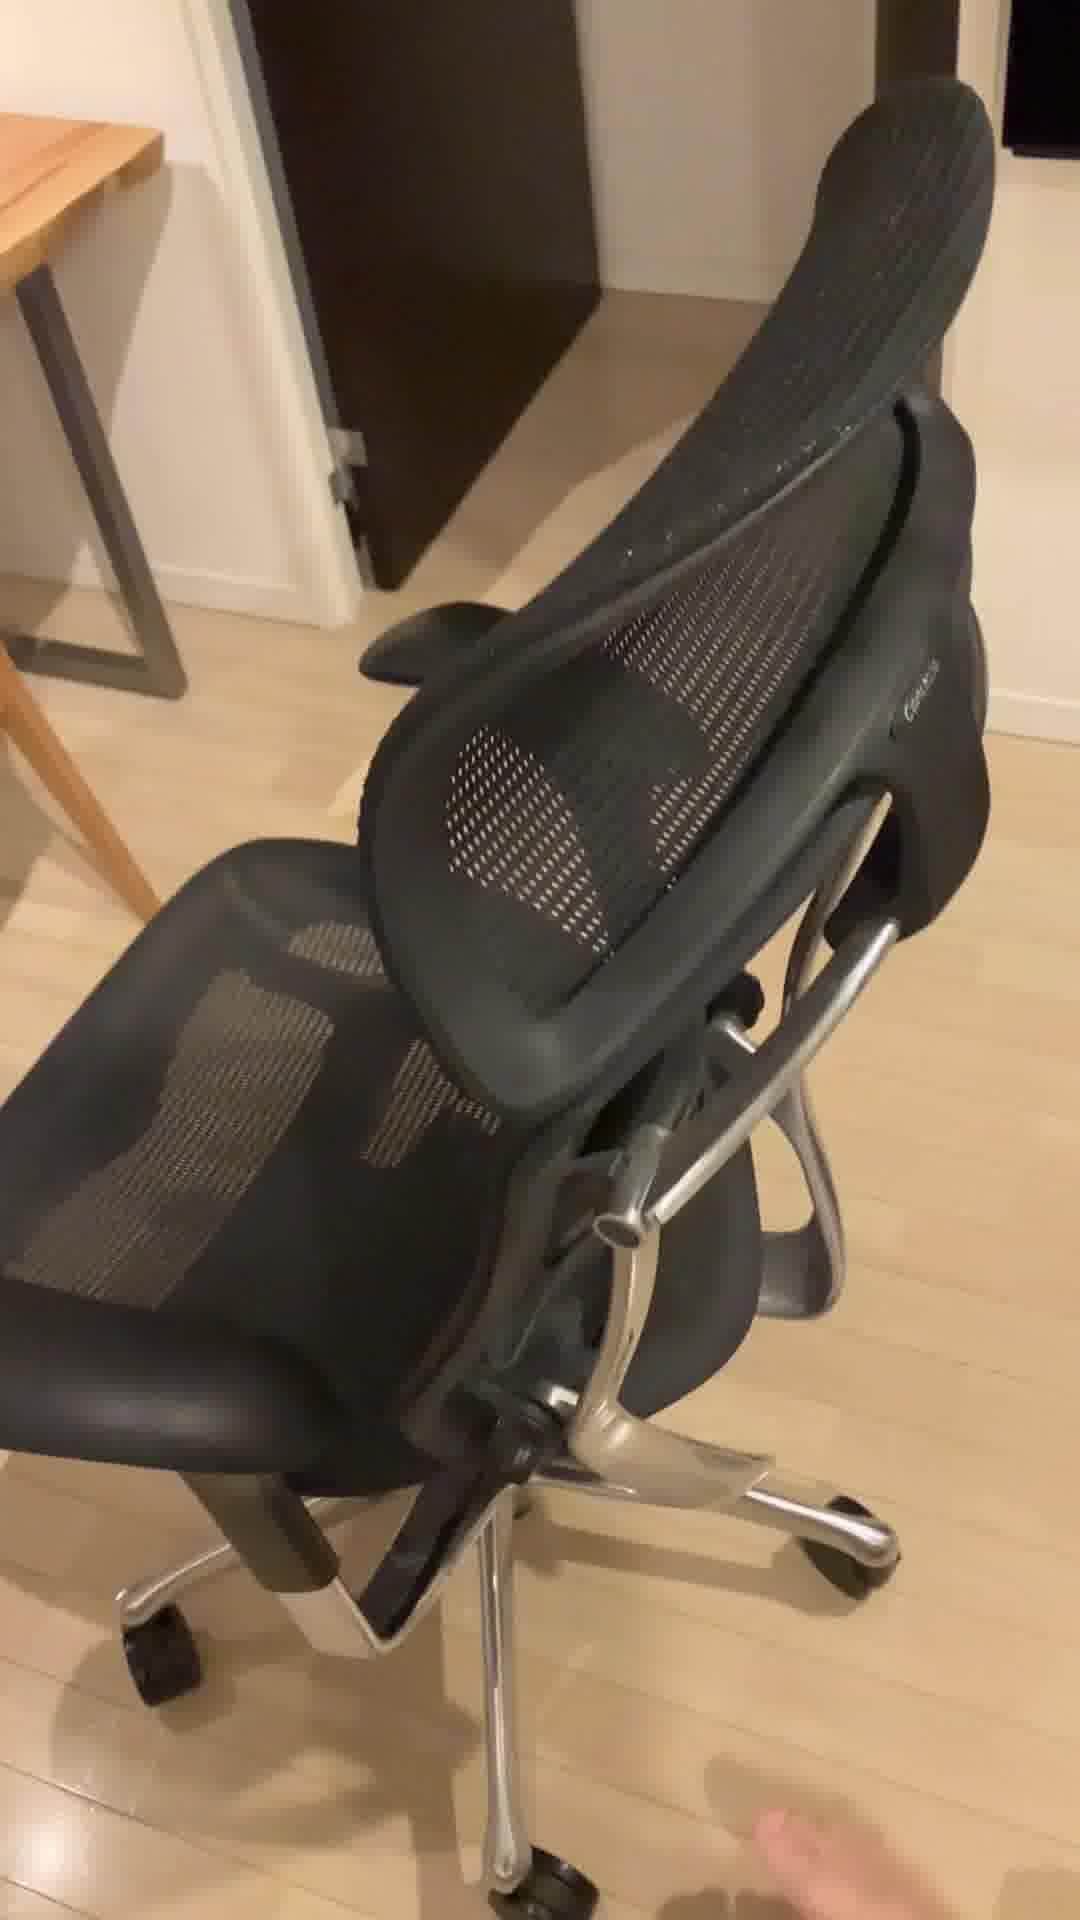okamura-contessa: (0, 68, 1003, 1920)
